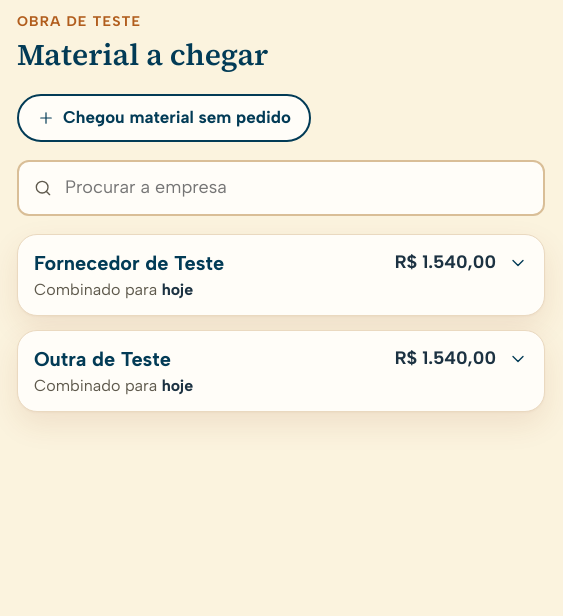
Test: Material a chegar: a lista › um cartão aberto por vez: abrir outro fecha o primeiro
The width and height of the screenshot is (563, 616).
Click the button "Fornecedor de Teste R$ 1.540,00 Combinado para hoje".
click(129, 263)  # box left=18, top=235, right=544, bottom=315
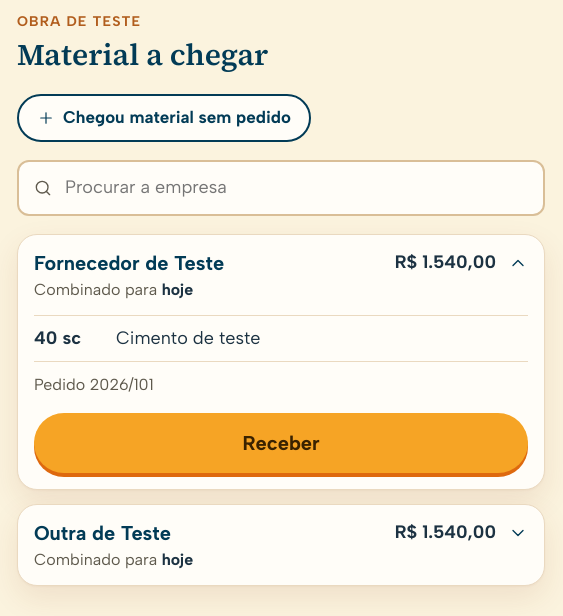
Click the button "Outra de Teste R$ 1.540,00 Combinado para hoje".
click(102, 533)  # box left=18, top=505, right=544, bottom=585
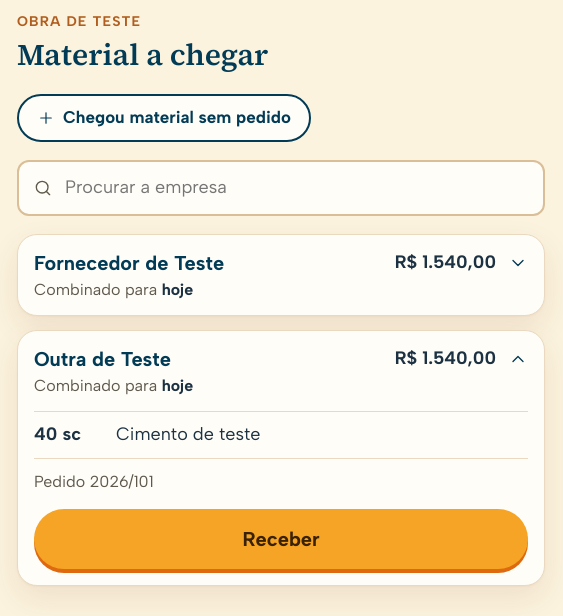
Expected: the number of buttons "Receber" is 1, left=34, top=509, right=528, bottom=569
Expected: the button "Fornecedor de Teste R$ 1.540,00 Combinado para hoje" is collapsed, left=18, top=235, right=544, bottom=315
Expected: the button "Outra de Teste R$ 1.540,00 Combinado para hoje" is expanded, left=18, top=331, right=544, bottom=411
